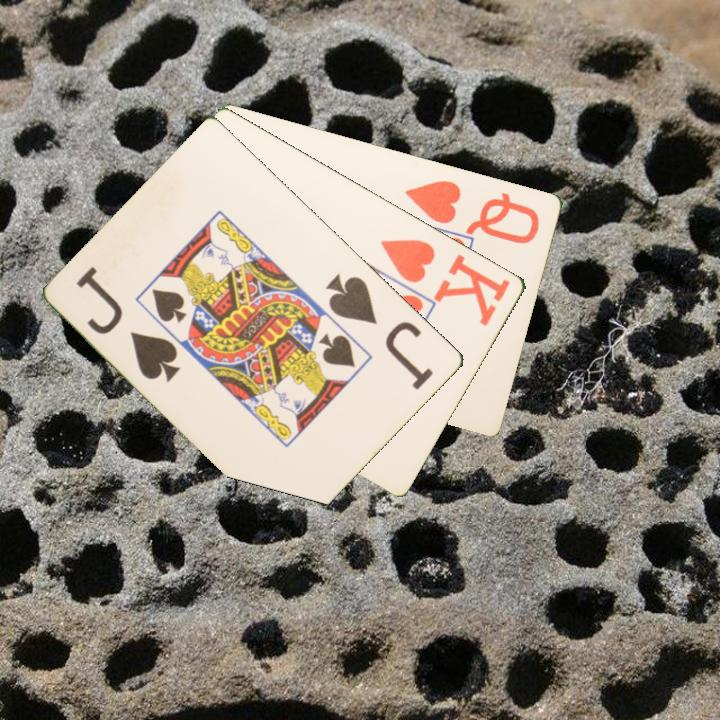Js: (322, 270, 437, 393), (73, 262, 185, 385)
Kh: (377, 235, 514, 329)
Qh: (402, 176, 543, 247)
